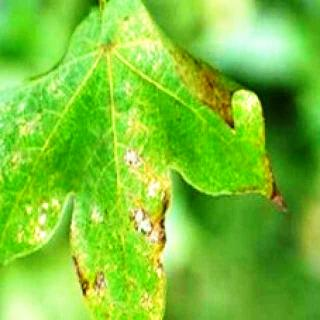grey mildew: (7, 22, 287, 320)
